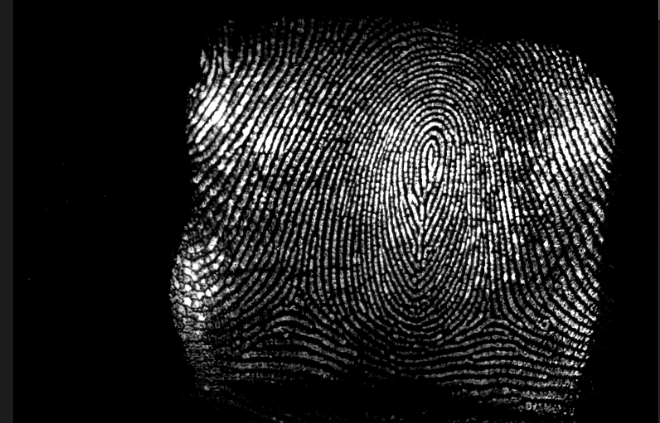nucelo: (415, 138, 442, 195)
verticilo: (277, 282, 307, 317), (474, 305, 506, 332)
